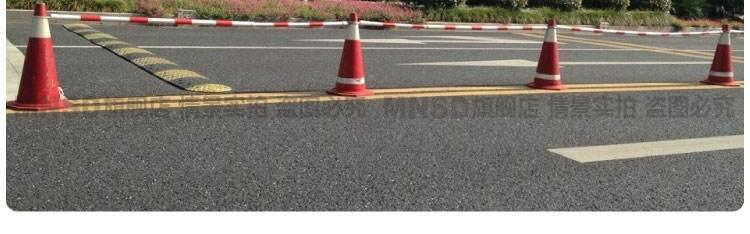sign: (7, 1, 64, 116), (327, 12, 376, 104), (523, 18, 569, 97), (704, 23, 741, 84)
